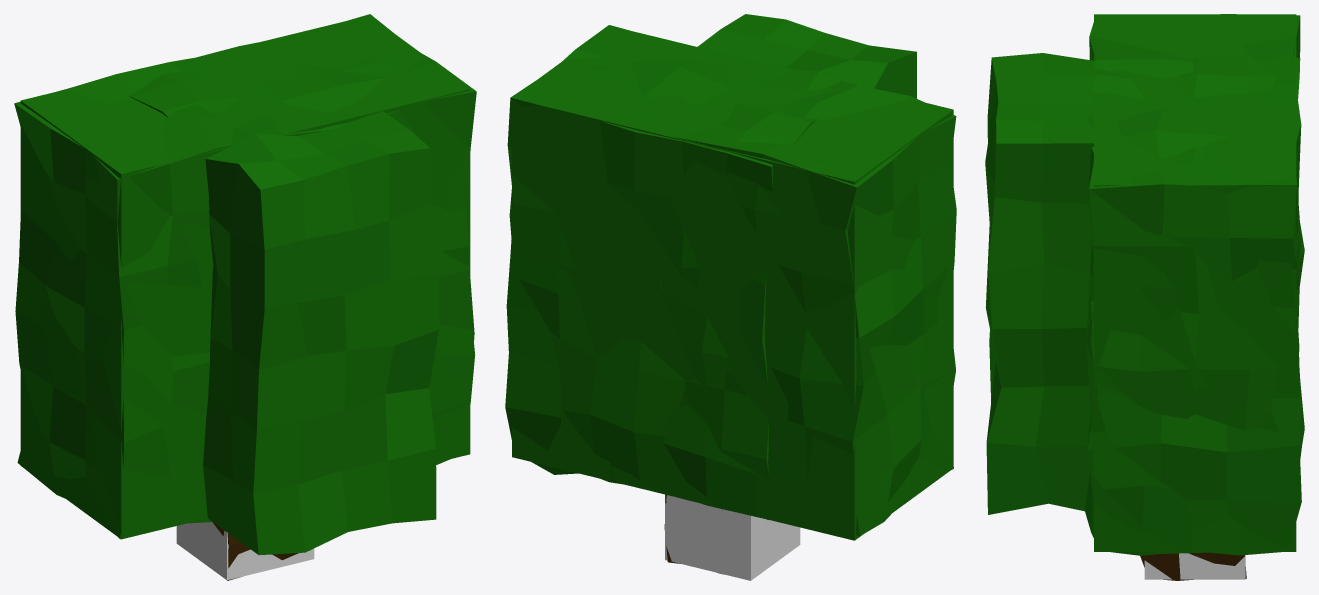
Rendered from Shrubs.glb.
3 views of the same model, side by side, from view 1: azimuth 30°, elevation 25°; view 2: azimuth 150°, elevation 25°; view 3: azimuth 270°, elevation 25° (orthographic). The views are drawn at different scales.
Visible parts, largest first — view 1: Leaves.002, Leaves.003, Leaves.001, Trunk.003; view 2: Leaves.003, Leaves.001, Leaves.002, Trunk.003; view 3: Leaves.002, Leaves.001, Leaves.003, Trunk.003, Trunk.001.
Part boxes in pixels (<box>): Leaves.002: <box>129,14,476,555</box>; Leaves.003: <box>20,21,470,539</box>; Leaves.001: <box>14,15,476,539</box>; Trunk.003: <box>176,522,314,580</box>; Leaves.003: <box>512,26,953,540</box>; Leaves.001: <box>505,25,956,535</box>; Leaves.002: <box>509,14,916,509</box>; Trunk.003: <box>665,495,800,580</box>; Leaves.002: <box>985,53,1304,555</box>; Leaves.001: <box>1087,14,1304,553</box>; Leaves.003: <box>1094,14,1296,551</box>; Trunk.003: <box>1144,553,1245,579</box>; Trunk.001: <box>1140,552,1246,580</box>.
Size of the model in its own units: 1.04 by 1.27 by 0.7899.
